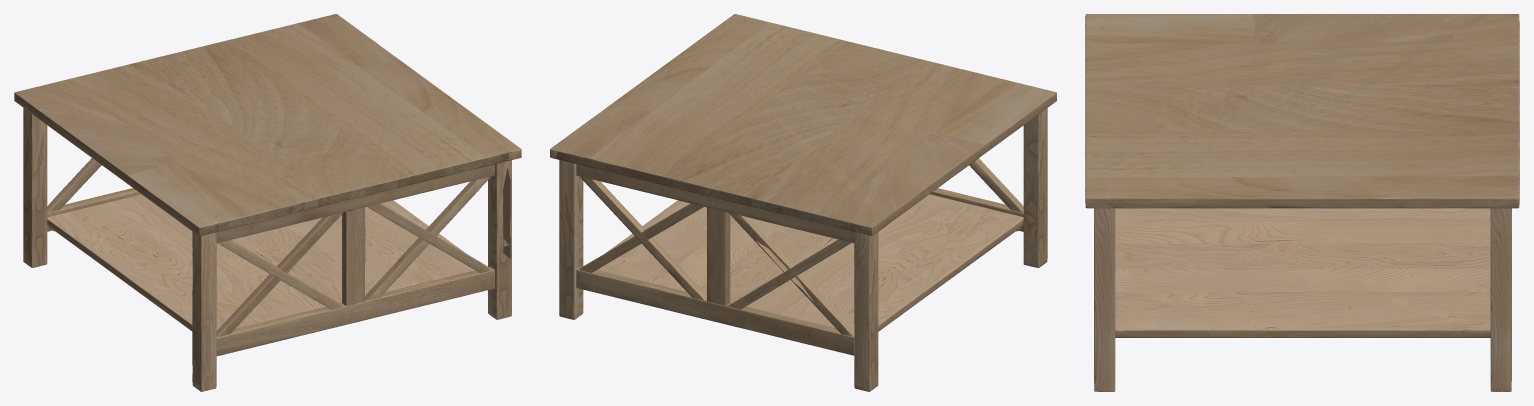
The model's file is walden wood.fbx.
3 views of the same model, side by side, from view 1: azimuth 30°, elevation 25°; view 2: azimuth 150°, elevation 25°; view 3: azimuth 270°, elevation 25° (orthographic). The views are drawn at different scales.
Parts seen in each view (by area): view 1: Component1; view 2: Component1; view 3: Component1.
Part boxes in pixels (bbox=[...]): Component1: bbox=[14, 14, 521, 391]; Component1: bbox=[550, 14, 1056, 391]; Component1: bbox=[1085, 14, 1519, 391].
Bounding box in the file's own units: 36.02 × 18 × 35.81.
